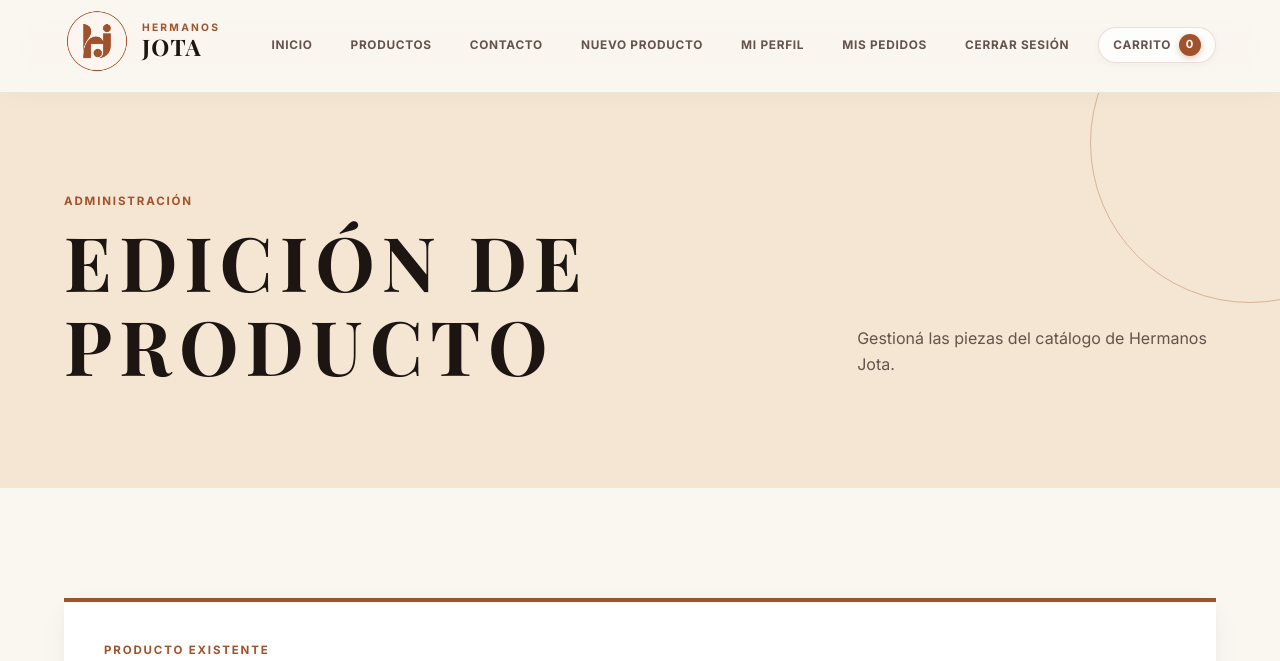
Scenario: authentication flow › resets the form when an administrator returns from edit to create
This screenshot has width=1280, height=661.
Click the link "Nuevo producto" at coordinates (642, 44), box [581,38,703,52]
(page scrolled)
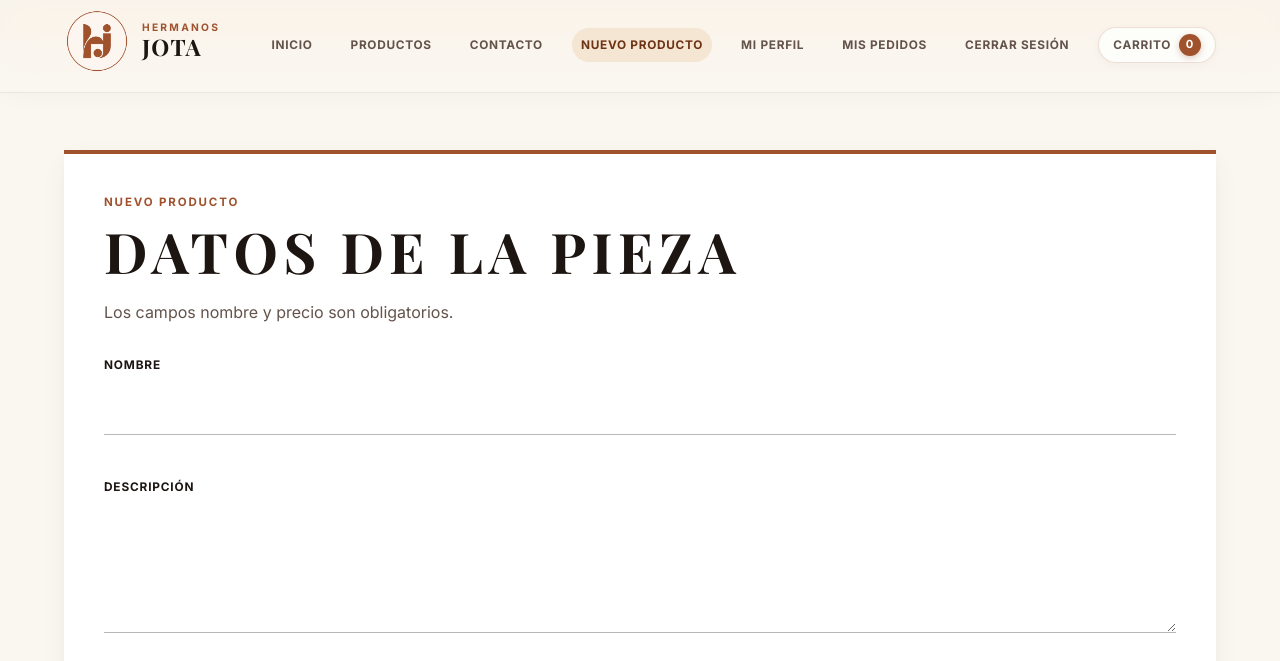
Result: the field labelled "Nombre" is empty at [104,382,1176,434]
